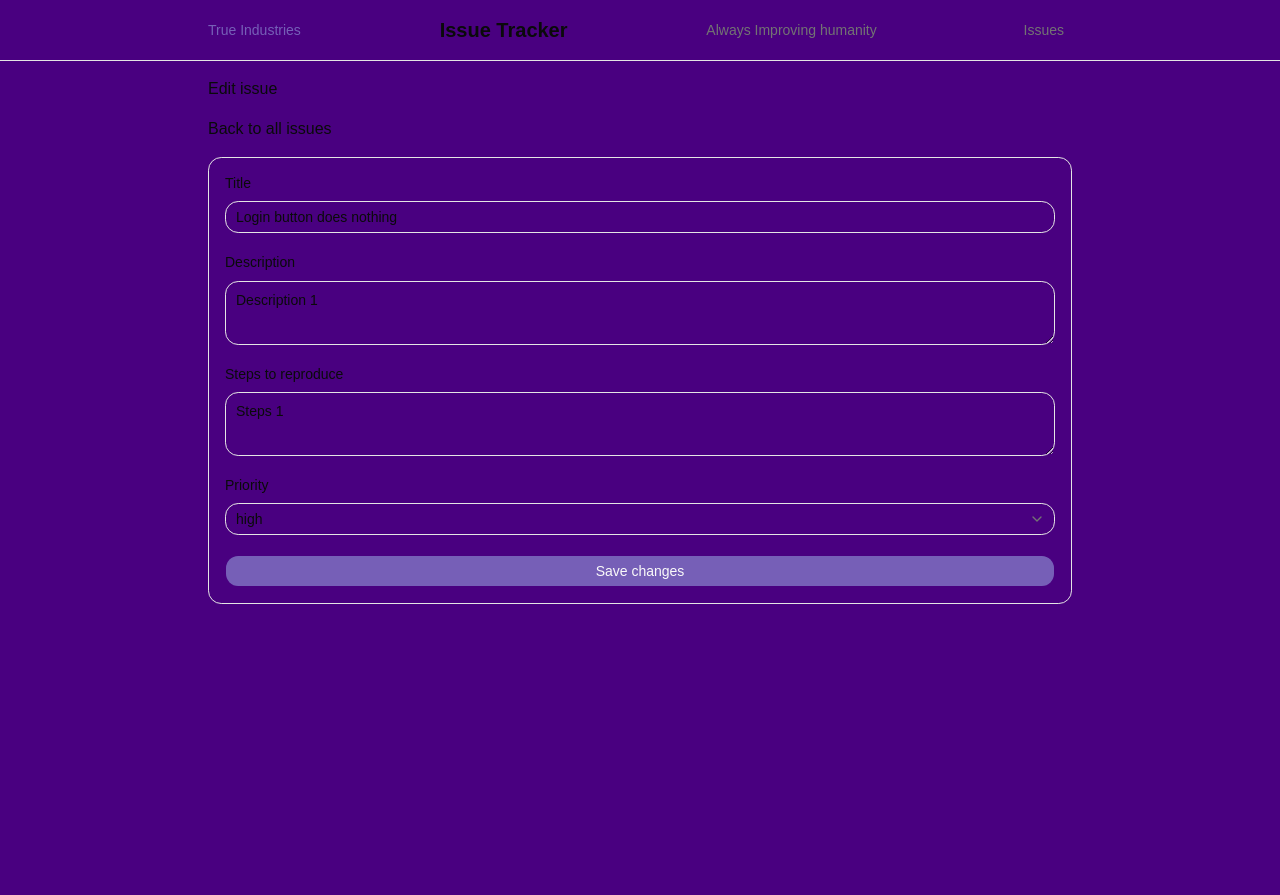
Edit screen › has a link back to the list
Expected: the field labelled "Title" is shown, x1=225 y1=201 x2=1055 y2=233
Click the link "Back to all issues" at coordinates (270, 128), box x1=208 y1=120 x2=332 y2=137
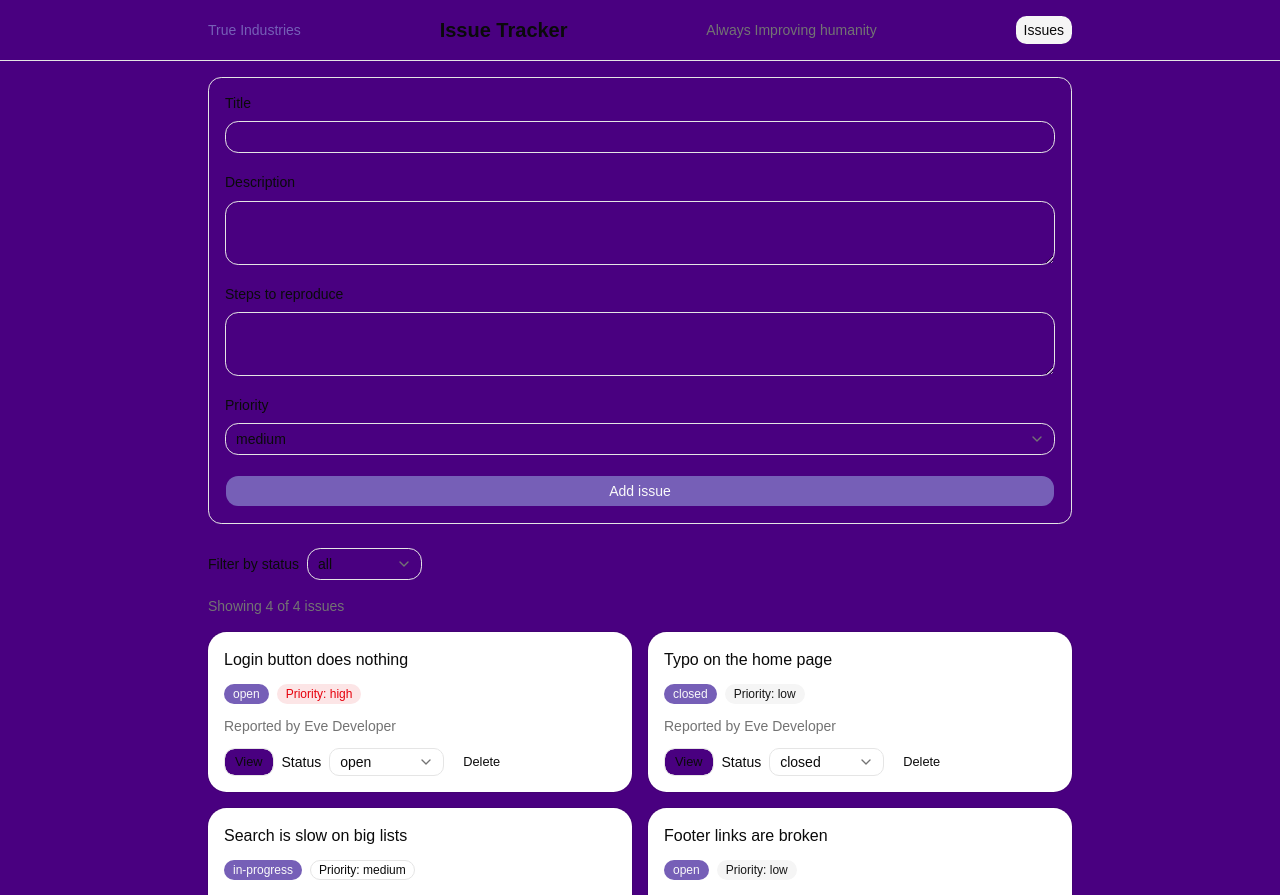
Expected: the text "Showing 4 of 4 issues" is shown, x1=208 y1=598 x2=344 y2=614
